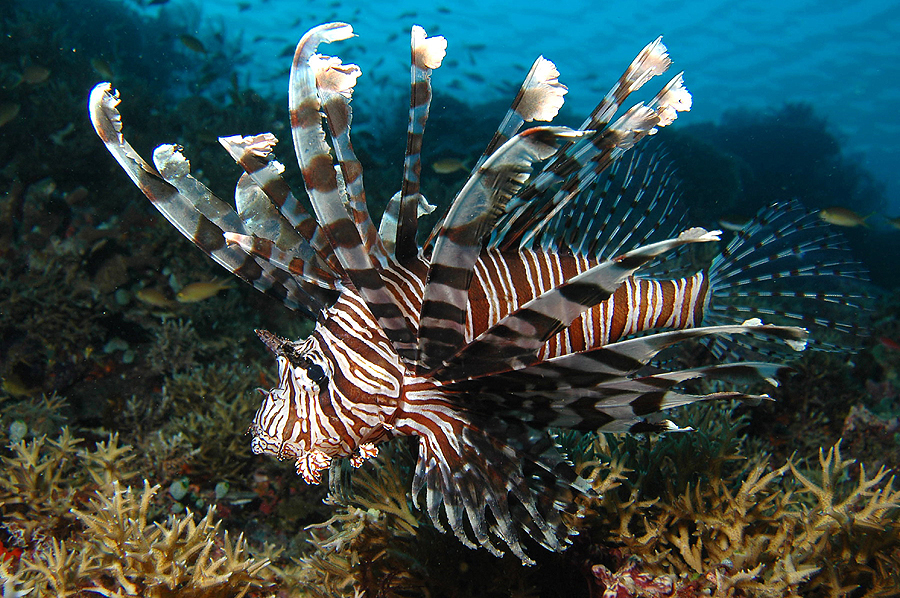Pterois_volitans: (67, 14, 822, 578)
